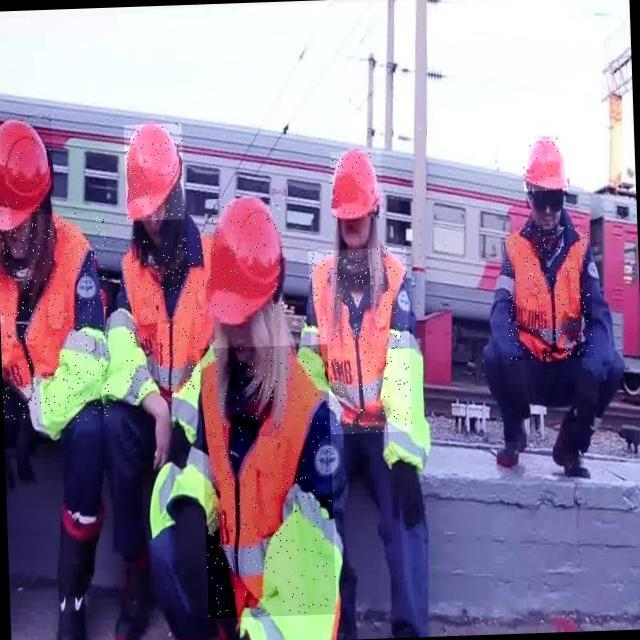Gloves: (164, 490, 234, 613), (383, 454, 432, 536), (567, 370, 609, 421), (487, 349, 520, 403)
Helmet: (204, 197, 284, 322), (0, 113, 55, 231), (123, 123, 184, 221), (330, 150, 384, 218), (522, 138, 568, 192)
Person: (169, 164, 344, 640), (467, 126, 640, 493), (318, 131, 439, 640), (0, 83, 110, 640)
Safety Boot: (43, 490, 108, 640), (104, 539, 159, 640), (544, 408, 603, 481), (491, 412, 538, 480)
Safety Vest: (199, 345, 337, 619), (0, 212, 111, 424), (308, 247, 412, 435), (247, 484, 353, 640), (117, 234, 214, 395), (505, 223, 594, 361), (33, 309, 108, 446), (379, 330, 429, 473), (110, 295, 153, 405), (173, 443, 218, 539)
bare-arms: (133, 378, 178, 470)
